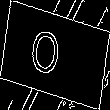O_S: (38, 25, 72, 85)
